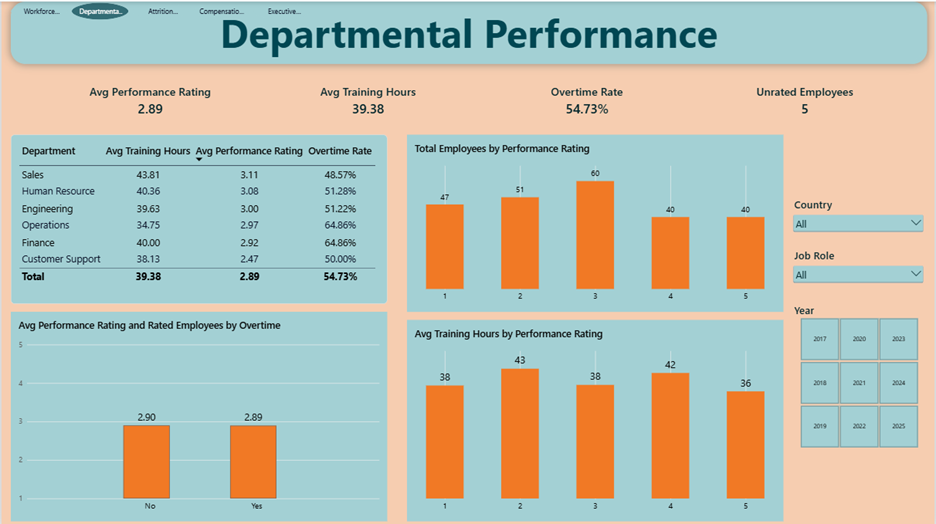

The dashboard page shown, as its layout file describes it:
{"tool":"powerbi","page":{"name":"Departmental Performance","canvas":[1920,1080],"ordinal":2},"visuals":[{"type":"textbox","box":[19.1,0,1887.3,128.8],"z":0},{"type":"cardVisual","fields":{"Data":["Workforce Data.Avg Performance Rating"]},"box":[159.9,147.9,293.5,112.1],"z":1000},{"type":"slicer","fields":{"Values":["Date.Year"]},"box":[1624.8,620.3,281.5,300.6],"z":2000},{"type":"tableEx","fields":{"Values":["Workforce Data.Department Hierarchy.Department","Workforce Data.Avg Training Hours","Workforce Data.Avg Performance Rating","Workforce Data.Overtime Rate"]},"box":[19.1,274.4,775.4,348.3],"z":3000},{"type":"lineStackedColumnComboChart","fields":{"Category":["Workforce Data.Performance Rating"],"Y":["Workforce Data.Avg Training Hours"]},"box":[835.1,656.1,775.4,415.1],"z":4000},{"type":"clusteredColumnChart","fields":{"Category":["Workforce Data.Overtime"],"Y":["Workforce Data.Avg Performance Rating"]},"box":[19.1,639.4,775.4,431.9],"z":5000},{"type":"lineStackedColumnComboChart","fields":{"Category":["Workforce Data.Performance Rating"],"Y":["Workforce Data.Total Employees"]},"box":[835.1,274.4,775.4,365],"z":6000},{"type":"slicer","fields":{"Values":["Location.Country"]},"box":[1624,403.2,279.2,105],"z":7000},{"type":"cardVisual","fields":{"Data":["Workforce Data.Avg Training Hours"]},"box":[609.2,147.9,293.5,112.1],"z":8000},{"type":"cardVisual","fields":{"Data":["Workforce Data.Overtime Rate"]},"box":[1058.6,147.9,293.5,112.1],"z":9000},{"type":"slicer","fields":{"Values":["Job Role.Job Role"]},"box":[1624,508.2,279.2,105],"z":10000},{"type":"pageNavigator","box":[19.1,2.4,620.3,35.8],"z":11000},{"type":"cardVisual","fields":{"Data":["Workforce Data.Unrated Employees"]},"box":[1507.9,147.9,293.5,112.1],"z":11001}]}

Visuals, with their boxes in screenshot pixels (x1, y1, x2, y2), scaled from the page's 1920x1080 canvas onto the 936x524 screenshot:
textbox: (9, 0, 929, 62)
cardVisual - Workforce Data.Avg Performance Rating: (78, 72, 221, 126)
slicer - Date.Year: (792, 301, 929, 447)
tableEx - Workforce Data.Department Hierarchy.Department x Workforce Data.Avg Training Hours: (9, 133, 387, 302)
lineStackedColumnComboChart - Workforce Data.Performance Rating x Workforce Data.Avg Training Hours: (407, 318, 785, 520)
clusteredColumnChart - Workforce Data.Overtime x Workforce Data.Avg Performance Rating: (9, 310, 387, 520)
lineStackedColumnComboChart - Workforce Data.Performance Rating x Workforce Data.Total Employees: (407, 133, 785, 310)
slicer - Location.Country: (792, 196, 928, 247)
cardVisual - Workforce Data.Avg Training Hours: (297, 72, 440, 126)
cardVisual - Workforce Data.Overtime Rate: (516, 72, 659, 126)
slicer - Job Role.Job Role: (792, 247, 928, 298)
pageNavigator: (9, 1, 312, 19)
cardVisual - Workforce Data.Unrated Employees: (735, 72, 878, 126)
